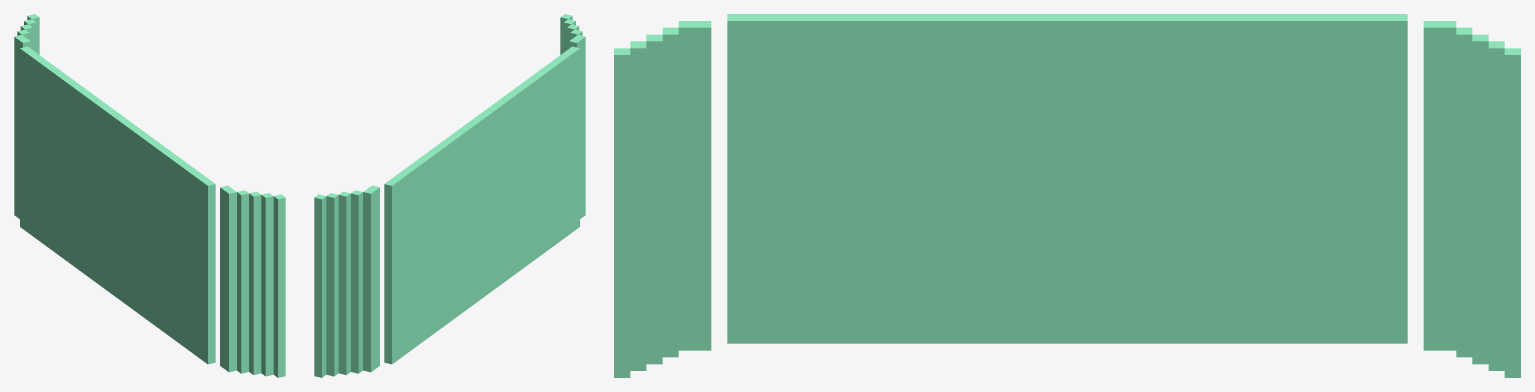
File: Street1-7.obj
3 renders of one model, left to right at view 1: azimuth 30°, elevation 25°; view 2: azimuth 150°, elevation 25°; view 3: azimuth 270°, elevation 25°, orthographic. The views are drawn at different scales.
Size of the model in its own units: 0.6 by 2.2 by 5.6.
Materials: 1 (1 with a texture image).
